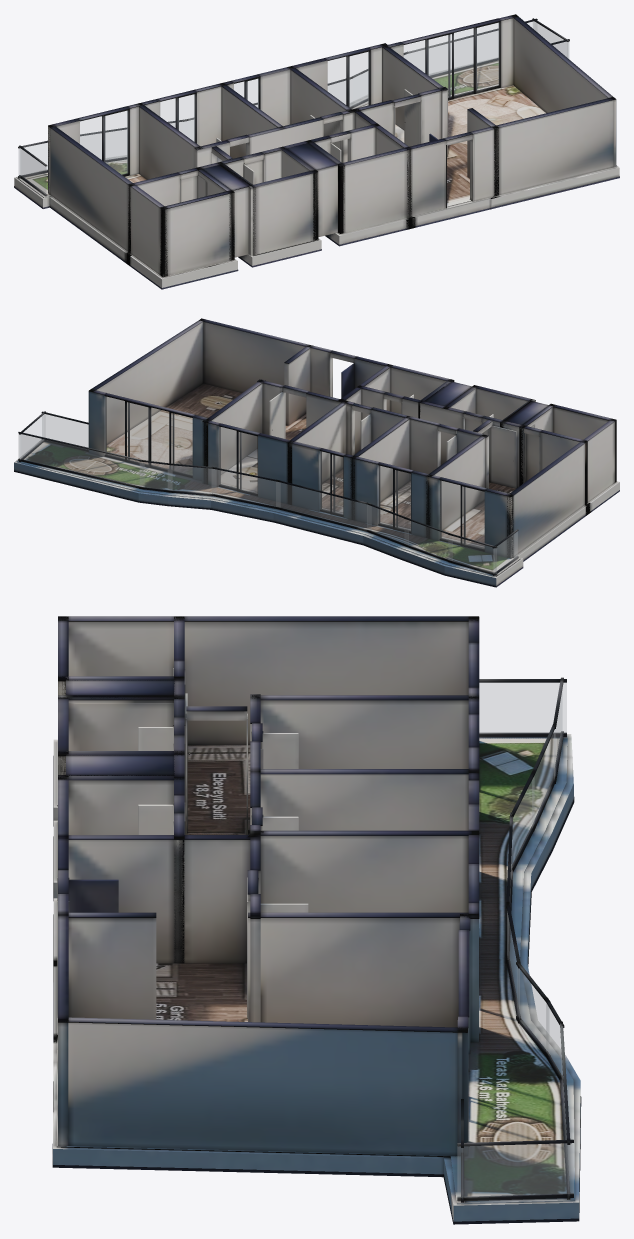
3 renders of one model, top to bottom at view 1: azimuth 30°, elevation 25°; view 2: azimuth 150°, elevation 25°; view 3: azimuth 270°, elevation 25°, orthographic. The views are drawn at different scales.
Parts seen in each view (by area): view 1: plan, glass4_m, glass0_m, railg2_m, glass3_m, glass1_m, railg8_m, railg9_m, railg10_m, glass2_m, railg4_m, railg1_m; view 2: plan, glass4_m, railg2_m, railg6_m, glass0_m, glass3_m, railg5_m, glass1_m, railg9_m, railg4_m, railg8_m, glass2_m (+5 smaller); view 3: plan, railg1_m, railg10_m, railg4_m, railg8_m, railg7_m.
Boxes of the visible parts, x1,y1,x2,y2 form: plan: [14, 14, 619, 289]; glass4_m: [404, 23, 498, 97]; glass0_m: [80, 111, 127, 174]; railg2_m: [407, 21, 536, 75]; glass3_m: [328, 52, 368, 108]; glass1_m: [160, 94, 194, 141]; railg8_m: [80, 130, 126, 159]; railg9_m: [18, 143, 47, 175]; railg10_m: [20, 148, 46, 193]; glass2_m: [234, 79, 258, 107]; railg4_m: [353, 71, 367, 104]; railg1_m: [533, 22, 568, 57]; plan: [14, 318, 619, 587]; glass4_m: [105, 396, 192, 474]; railg2_m: [18, 434, 144, 487]; railg6_m: [276, 482, 370, 530]; glass0_m: [440, 480, 484, 548]; glass3_m: [219, 427, 257, 493]; railg5_m: [212, 469, 280, 507]; glass1_m: [379, 466, 410, 530]; railg9_m: [448, 535, 496, 573]; railg4_m: [168, 465, 215, 493]; railg8_m: [405, 519, 452, 560]; glass2_m: [320, 451, 342, 514]; plan: [52, 616, 581, 1224]; railg1_m: [457, 1143, 573, 1197]; railg10_m: [479, 683, 566, 733]; railg4_m: [517, 967, 549, 1054]; railg8_m: [532, 729, 555, 827]; railg7_m: [511, 777, 534, 868].
Size of the model in its own units: 18.46 by 2.62 by 8.73.
Materials: 2 (1 with a texture image).
